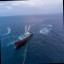fishing boat: (10, 22, 36, 49)
